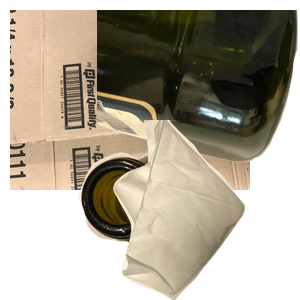cardboard: (10, 10, 250, 190)
glass: (77, 147, 295, 300)
plastic: (97, 10, 300, 165)
trash: (111, 120, 300, 300)
